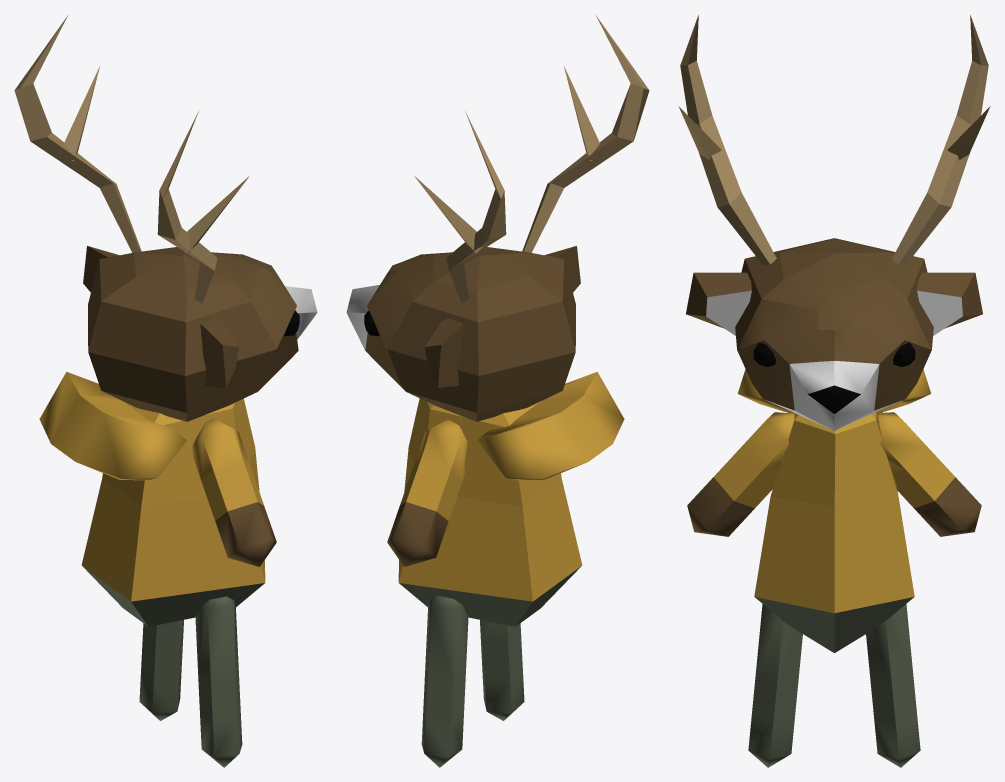
Rendered from deer.fbx.
The picture shows the model from 3 angles, left to right: view 1: azimuth 30°, elevation 25°; view 2: azimuth 150°, elevation 25°; view 3: azimuth 270°, elevation 25°; orthographic projection. The views are drawn at different scales.
Parts seen in each view (by area): view 1: Head, Body, Hoodie, ArmRight, LegRight, LegLeft, Ears; view 2: Head, Body, Hoodie, ArmLeft, LegLeft, LegRight, Ears; view 3: Head, Body, ArmRight, ArmLeft, LegLeft, LegRight, Ears, Hoodie, Eyes.
Boxes of the visible parts, <box> form: Head: <box>14,15,317,421</box>; Body: <box>81,398,265,626</box>; Hoodie: <box>39,371,186,480</box>; ArmRight: <box>192,418,276,566</box>; LegRight: <box>195,596,242,767</box>; LegLeft: <box>139,620,183,720</box>; Ears: <box>83,246,238,387</box>; Head: <box>346,15,649,421</box>; Body: <box>398,398,582,626</box>; Hoodie: <box>477,371,624,480</box>; ArmLeft: <box>387,419,467,566</box>; LegLeft: <box>421,596,468,767</box>; LegRight: <box>480,620,524,720</box>; Ears: <box>425,246,580,387</box>; Head: <box>678,15,990,430</box>; Body: <box>754,409,914,652</box>; ArmRight: <box>687,412,794,536</box>; ArmLeft: <box>878,412,981,536</box>; LegLeft: <box>866,604,920,767</box>; LegRight: <box>748,604,802,767</box>; Ears: <box>686,272,982,335</box>; Hoodie: <box>737,369,931,413</box>; Eyes: <box>753,342,915,367</box>.
Bounding box in the file's own units: 0.5763 × 1.51 × 0.5895.
